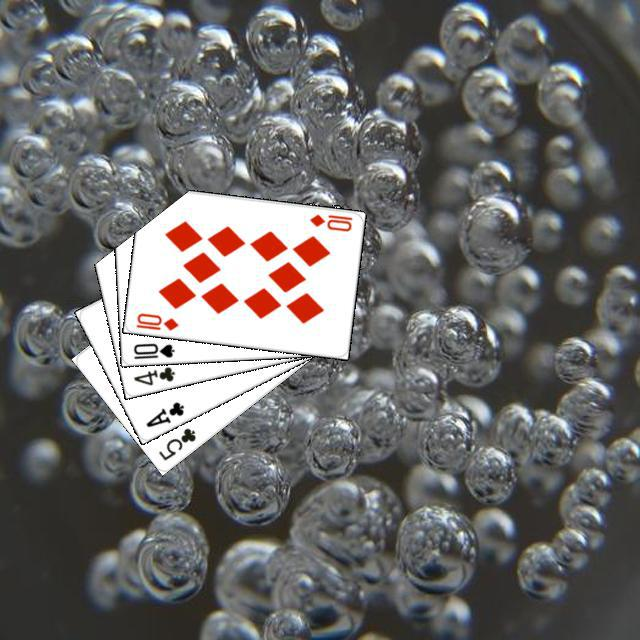10d: (131, 308, 180, 332), (305, 209, 354, 233)
10s: (129, 338, 176, 361)
4c: (129, 362, 177, 387)
5c: (154, 423, 197, 462)
Ac: (141, 397, 186, 429)
